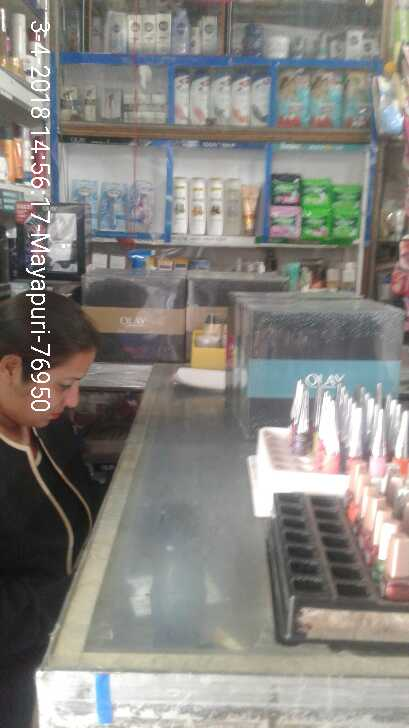venus: (127, 180, 155, 232), (100, 180, 127, 232), (71, 180, 100, 202)
